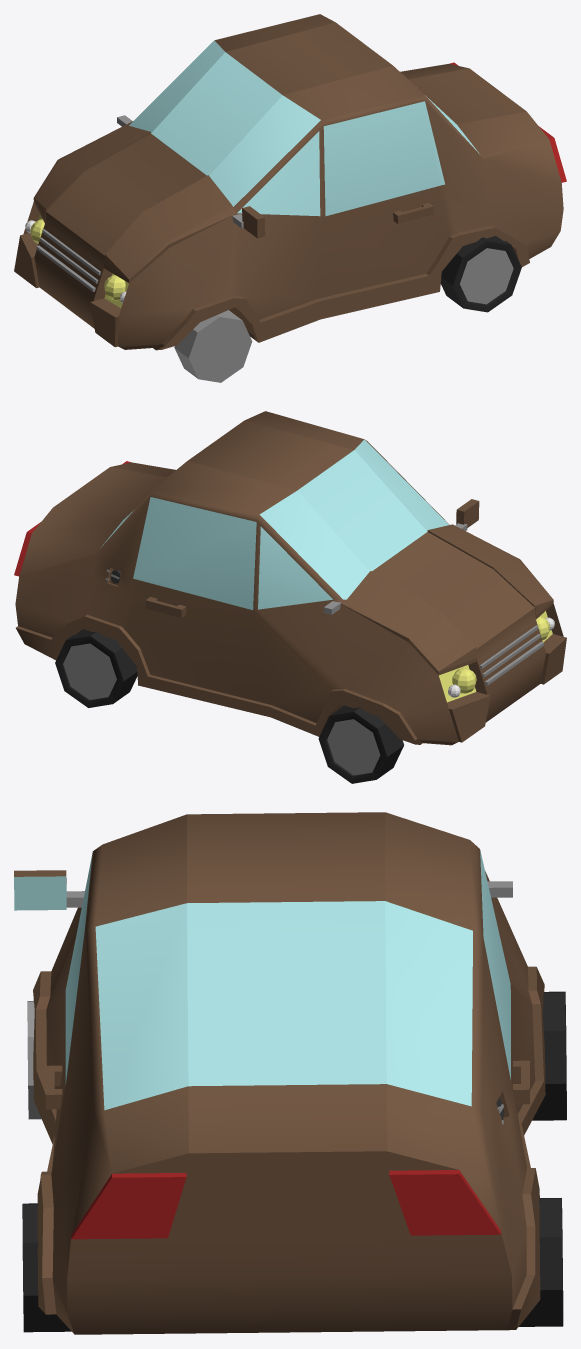
The model's file is Car.fbx.
3 renders of one model, top to bottom at view 1: azimuth 30°, elevation 25°; view 2: azimuth 150°, elevation 25°; view 3: azimuth 270°, elevation 25°, orthographic. The views are drawn at different scales.
Parts seen in each view (by area): view 1: pCube16; view 2: pCube16; view 3: pCube16.
Part boxes in pixels (<box>): pCube16: <box>14,14,566,382</box>; pCube16: <box>14,411,566,783</box>; pCube16: <box>14,812,566,1334</box>.
Bounding box in the file's own units: 353 × 177 × 220.
